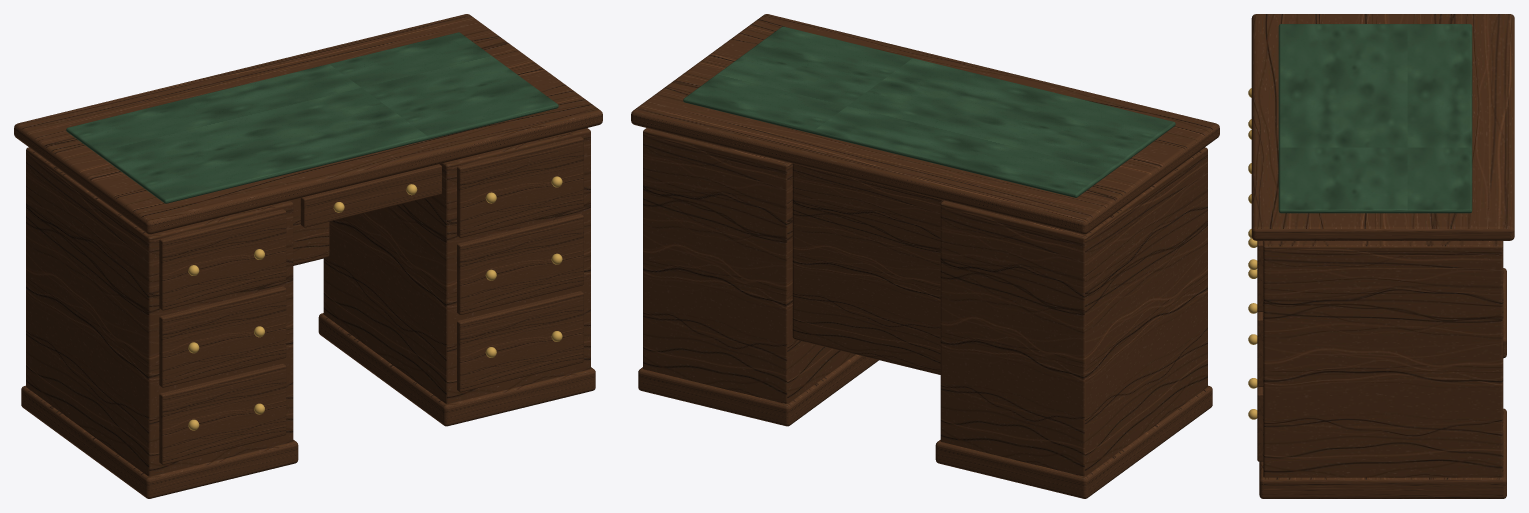
Rendered from escrivaninha-imbuia-anos-50.glb.
The picture shows the model from 3 angles, left to right: view 1: azimuth 30°, elevation 25°; view 2: azimuth 150°, elevation 25°; view 3: azimuth 270°, elevation 25°; orthographic projection. The views are drawn at different scales.
Parts seen in each view (by area): view 1: desk; view 2: desk; view 3: desk.
Boxes of the visible parts, left/top/right/bottom form: desk: left=14, top=14, right=602, bottom=498; desk: left=631, top=14, right=1219, bottom=498; desk: left=1248, top=14, right=1514, bottom=498.
Bounding box in the file's own units: 1.32 × 0.791 × 0.689.
3 materials, 2 textured.
